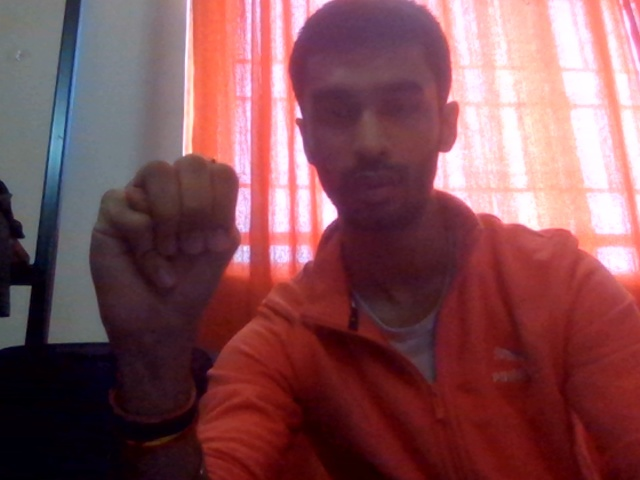M: (73, 134, 270, 401)
